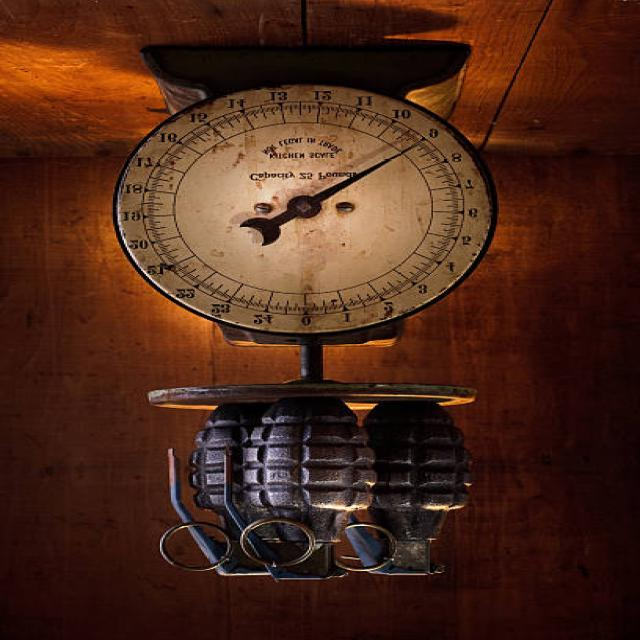grenade: (222, 398, 377, 586), (340, 396, 479, 579)
